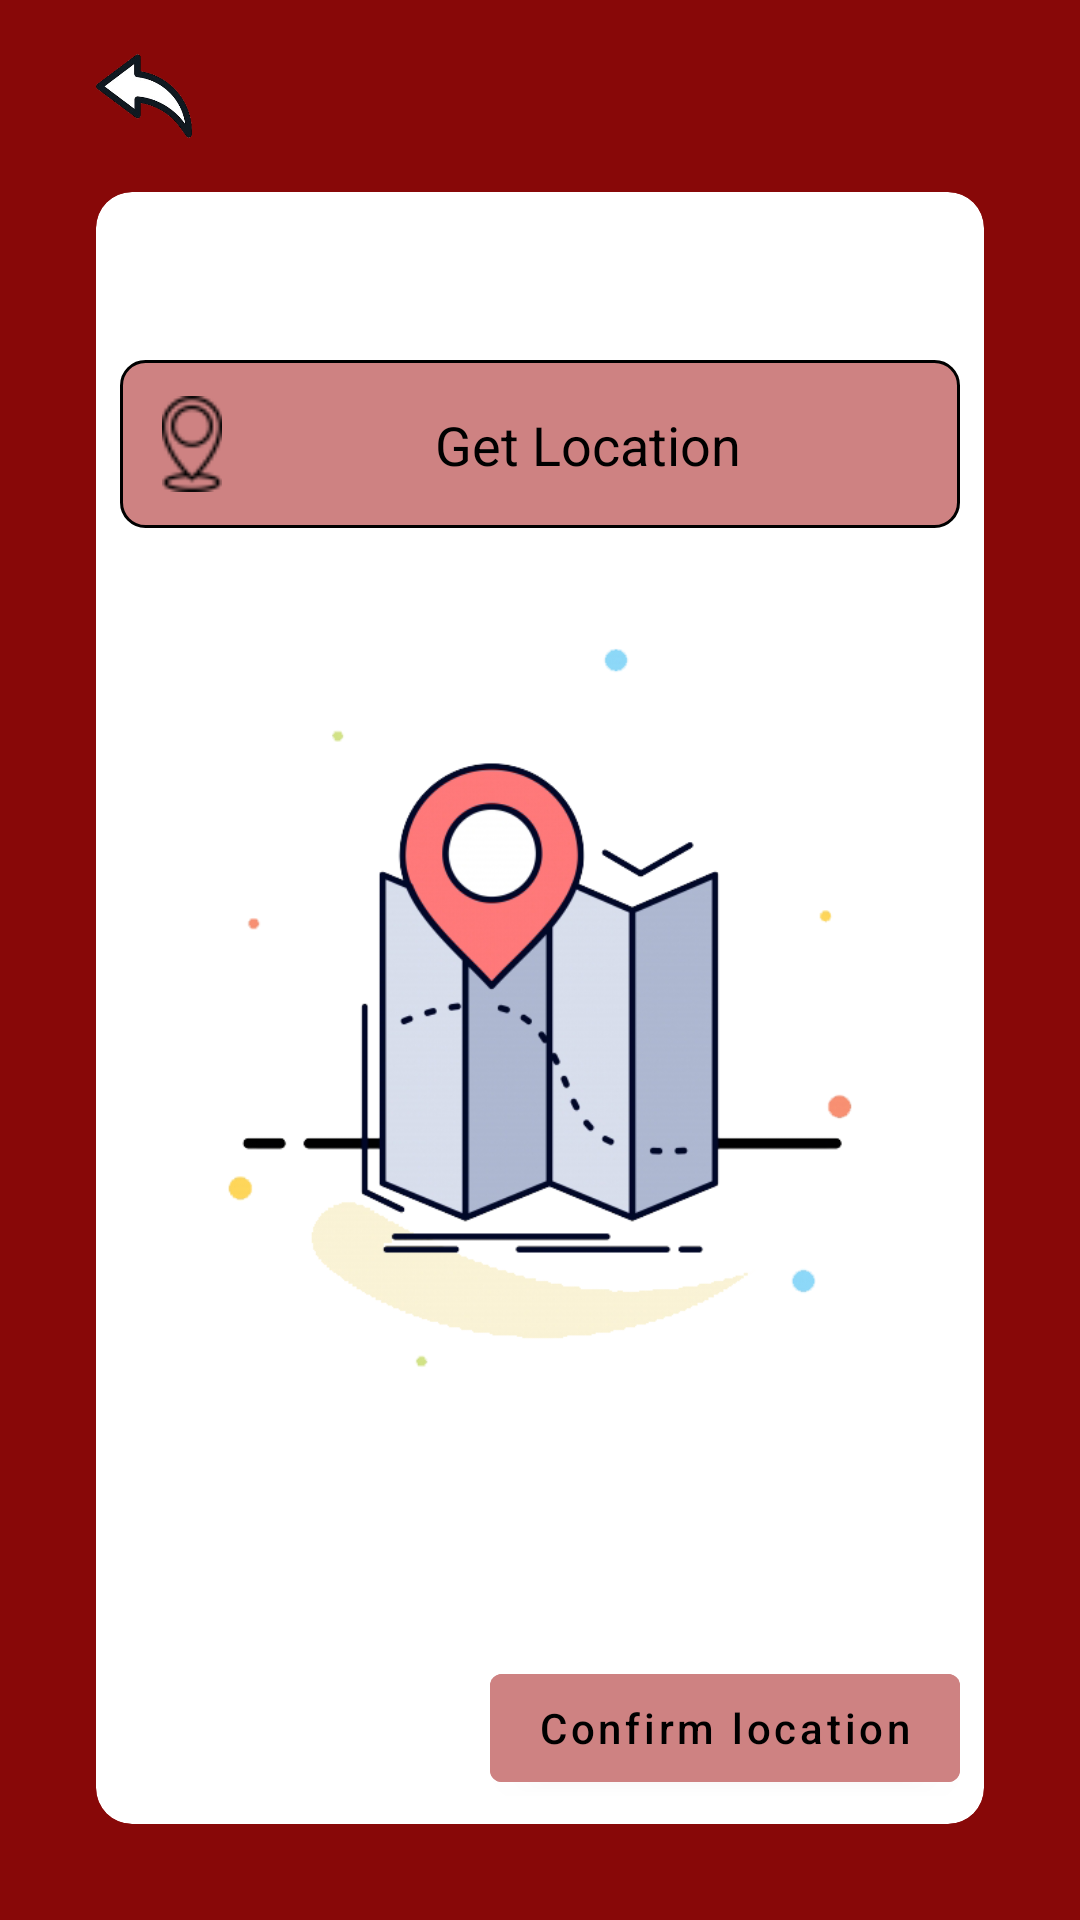

Screen size 1080x1920. Icon name, then its center in pixels as [x,y]:
back: [144,96]
current location: [192,444]
